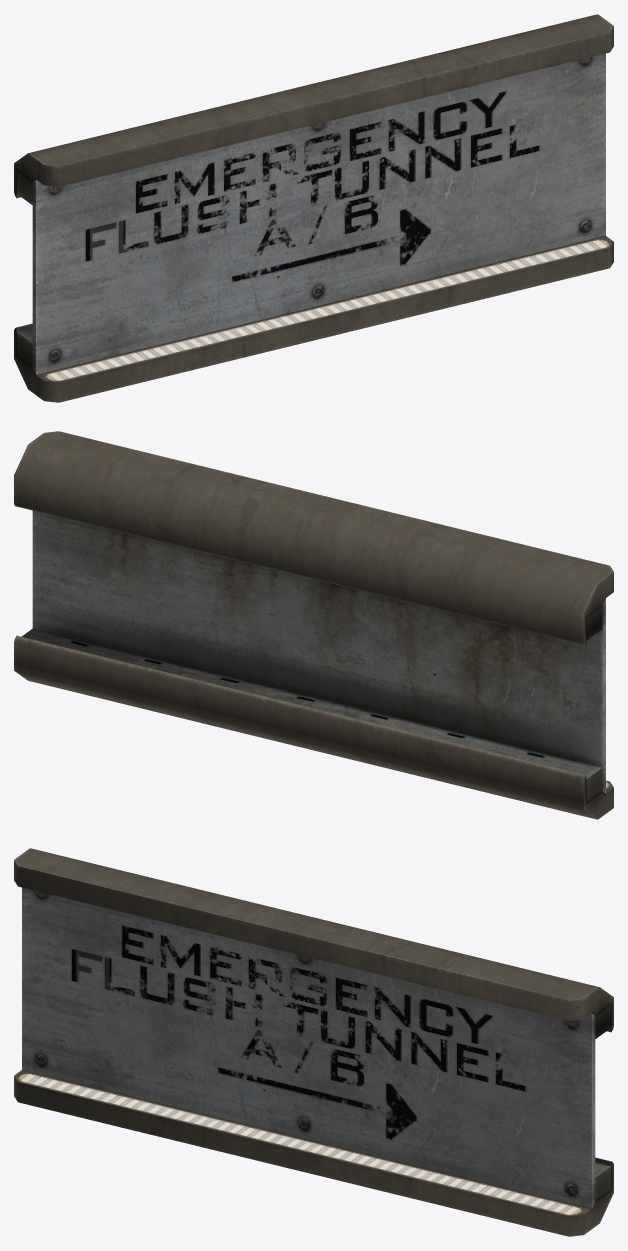
Rendered from sign_emergency_flush_tunnel_Rarrow_AB.dae.
The picture shows the model from 3 angles, top to bottom: view 1: azimuth 30°, elevation 25°; view 2: azimuth 150°, elevation 25°; view 3: azimuth 330°, elevation 25°; orthographic projection.
Visible parts, largest first — view 1: pCube1; view 2: pCube1; view 3: pCube1.
Boxes of the visible parts, box(x1,y1,x2,y2) form: pCube1: box(14, 14, 613, 402); pCube1: box(14, 431, 613, 819); pCube1: box(14, 848, 613, 1236).
Size of the model in its own units: 1 by 0.3959 by 0.1078.
